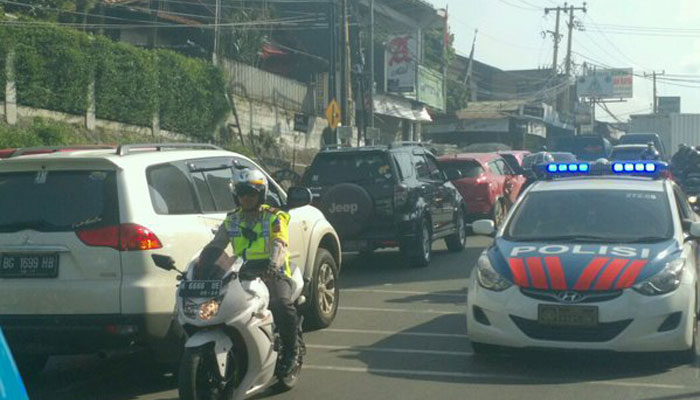plate: (1, 253, 59, 275), (534, 306, 599, 325), (184, 278, 219, 297)
